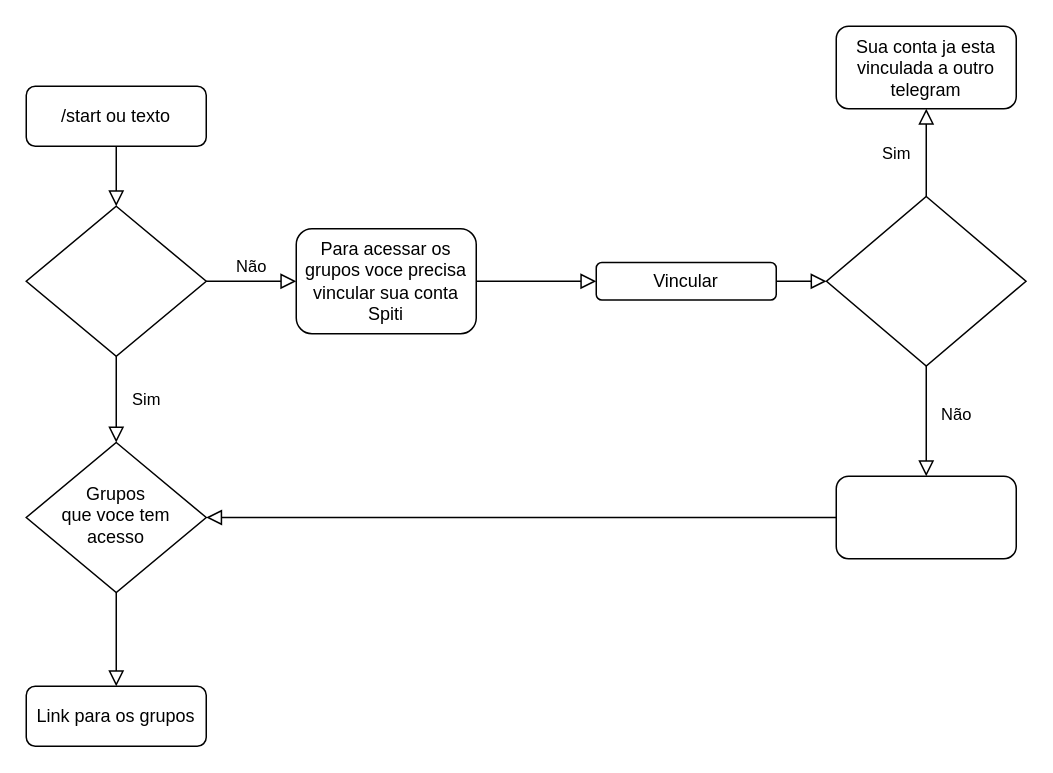
Image size: 1053x773. Some labels were removed from this diagram. The centre of each missing label's shape, as x and y in pixels:
"Conta Spiti vinculada a outro telegram?" goes at pixel 925 280.
"Conta vinculada com sucesso" goes at pixel 925 517.
"Telegram vinculado a Spiti?" goes at pixel 115 280.
